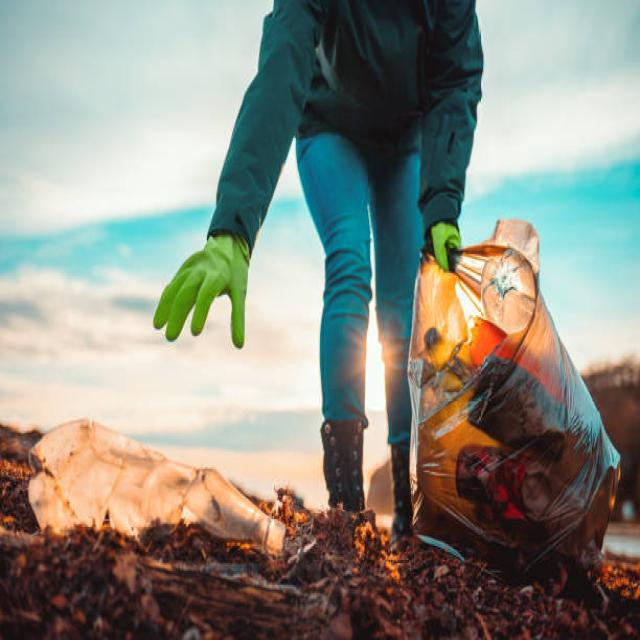plastic: (21, 397, 290, 569)
trash: (414, 234, 632, 601)
